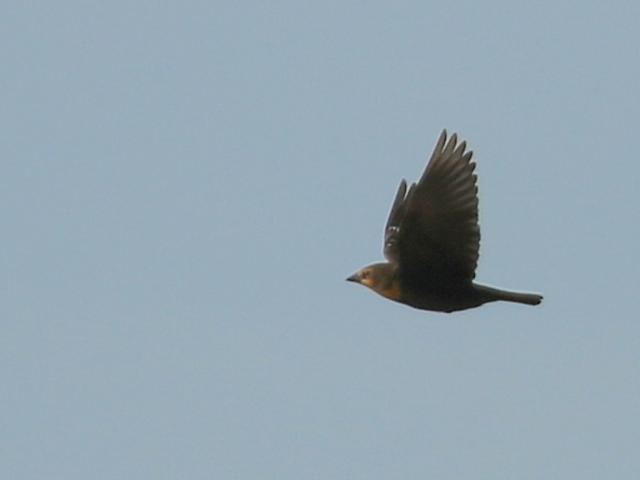Bird: (345, 128, 544, 316)
